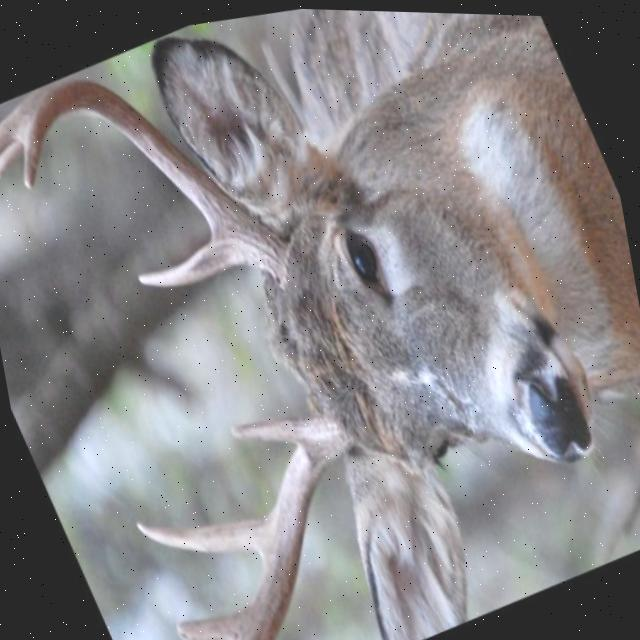L-F: (21, 75, 289, 284)
L-G1: (134, 222, 246, 286)
R-F: (236, 408, 356, 640)
R-G1: (227, 414, 302, 445)
R-G2: (132, 505, 272, 564)
